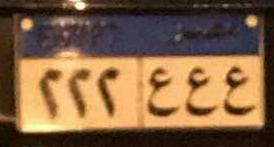2: (64, 65, 93, 119), (96, 65, 125, 117), (39, 68, 64, 120)
ain: (143, 65, 180, 121), (181, 65, 217, 120), (221, 64, 256, 119)
